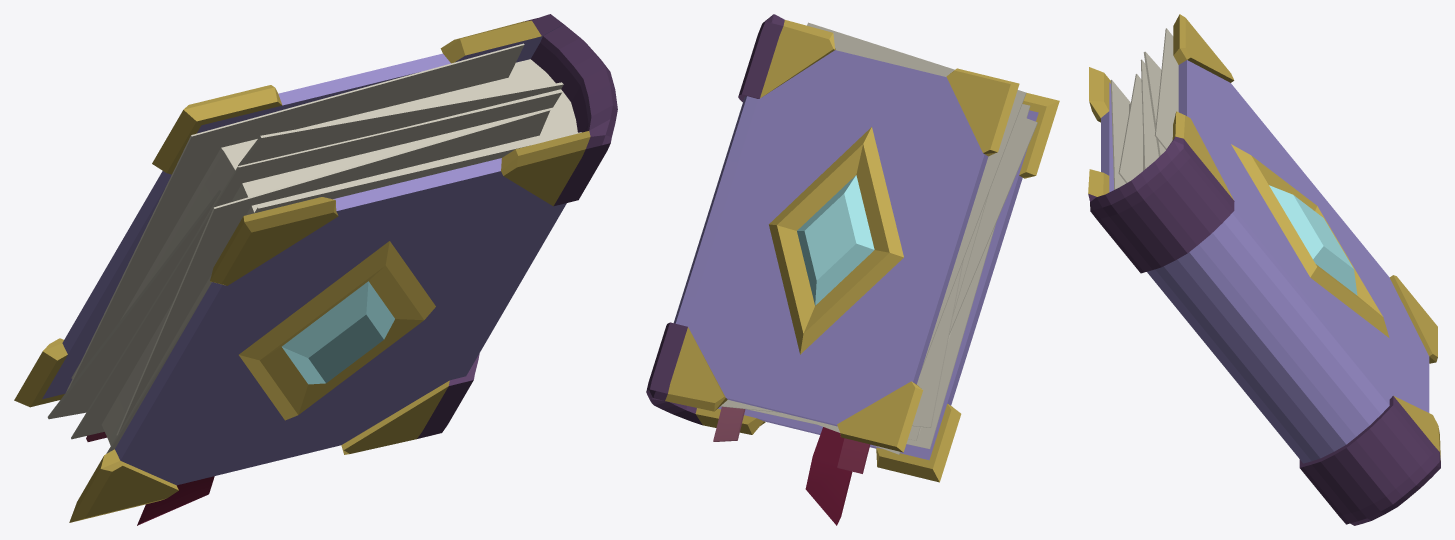
Rendered from SRCrystalBook.fbx.
3 renders of one model, left to right at view 1: azimuth 30°, elevation 25°; view 2: azimuth 150°, elevation 25°; view 3: azimuth 270°, elevation 25°, orthographic. The views are drawn at different scales.
Visible parts, largest first — view 1: CrystalBookBase, CrystalBookFront; view 2: CrystalBookFront, CrystalBookBase; view 3: CrystalBookBase, CrystalBookFront.
Part boxes in pixels (x1,y1,x2,y2): CrystalBookBase: (47,14,617,525); CrystalBookFront: (14,14,562,407); CrystalBookFront: (651,14,1019,452); CrystalBookBase: (646,14,1059,525); CrystalBookBase: (1088,28,1440,525); CrystalBookFront: (1166,14,1440,461).
Bounding box in the file's own units: 0.3253 × 0.4383 × 0.3253.
